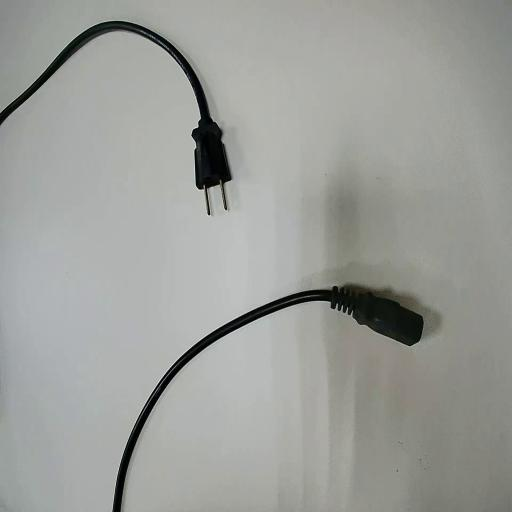wire: (114, 286, 423, 511), (0, 22, 230, 188)
